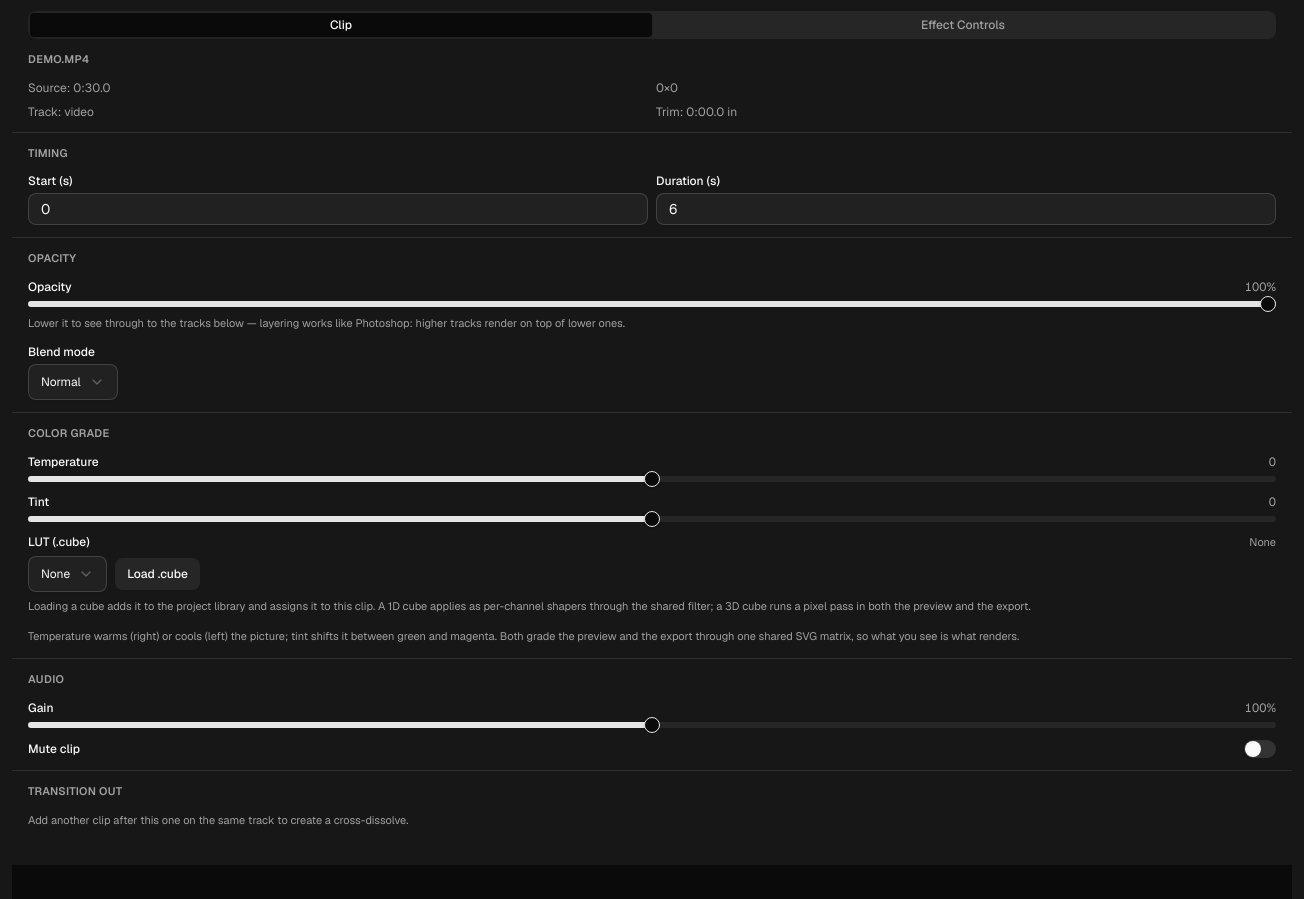
it: InspectorPanel tabs › the speed readout follows a flat timeScale curve
The width and height of the screenshot is (1304, 899).
Click the tab with test id "inspector-tab-effects" at x=963, y=25, box [652, 13, 1274, 37]
(page scrolled)
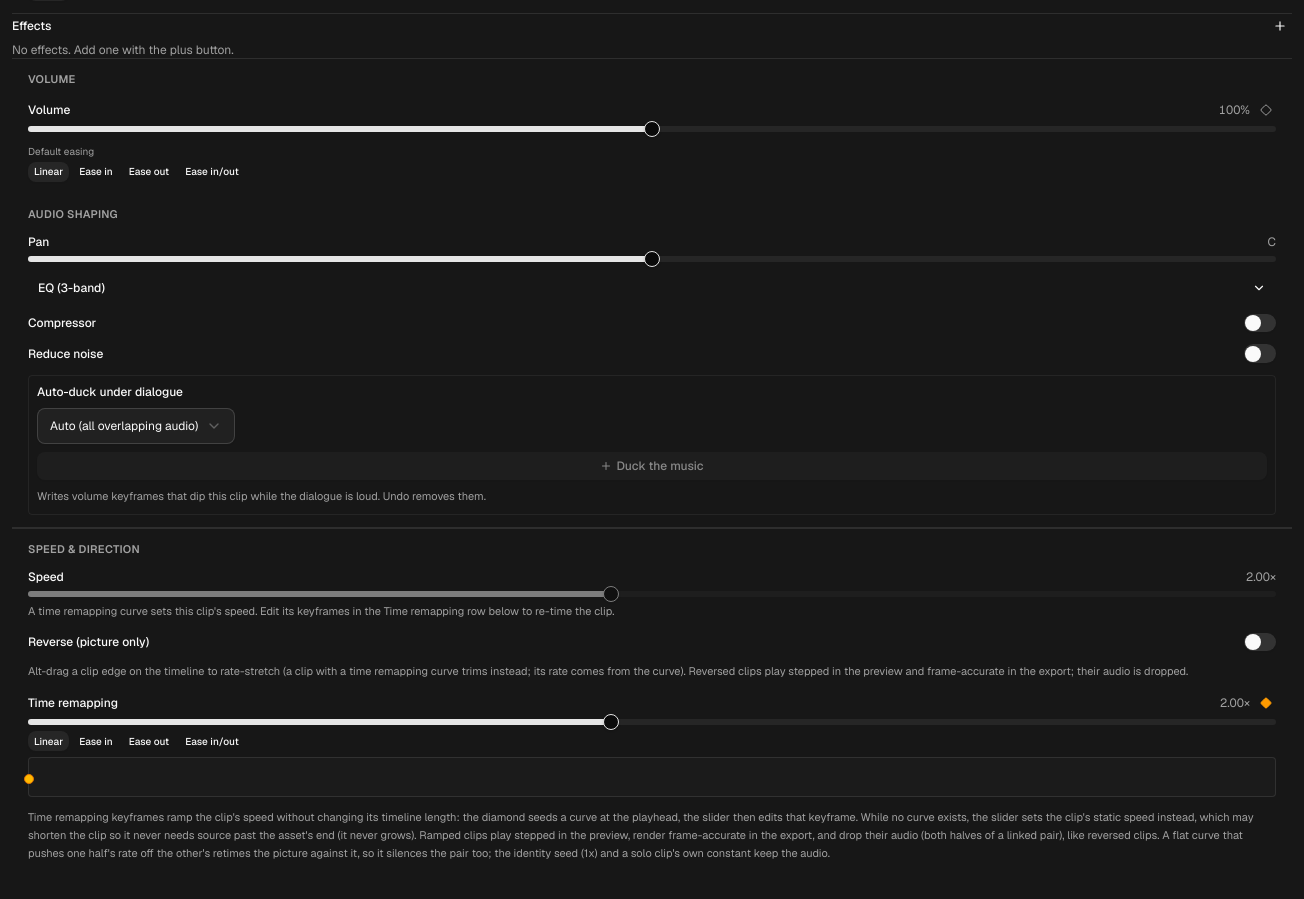
Expected: the element with test id "speed-section" does not show "1.00×", [12, 529, 1292, 875]
Expected: the element with test id "speed-section" shows "2.00×", [1220, 695, 1250, 711]
